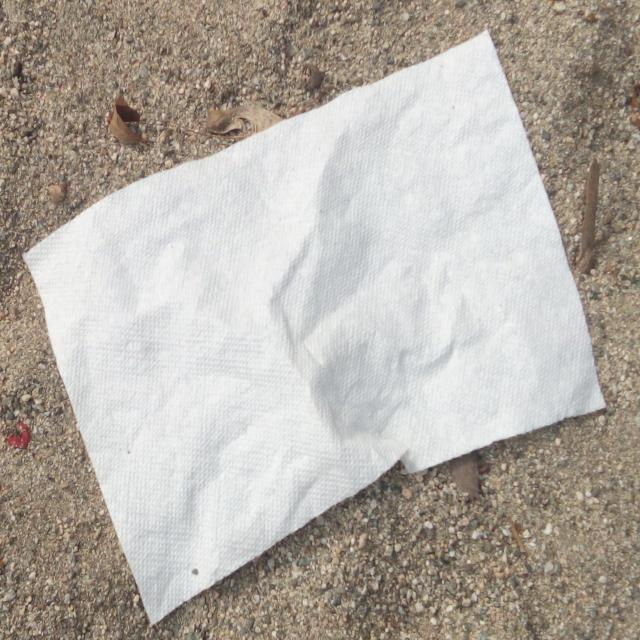litter: (22, 29, 610, 629)
